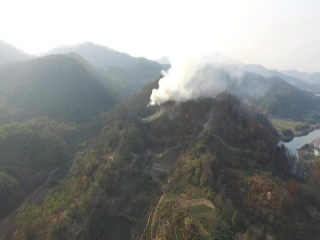smoke: (144, 48, 252, 110)
